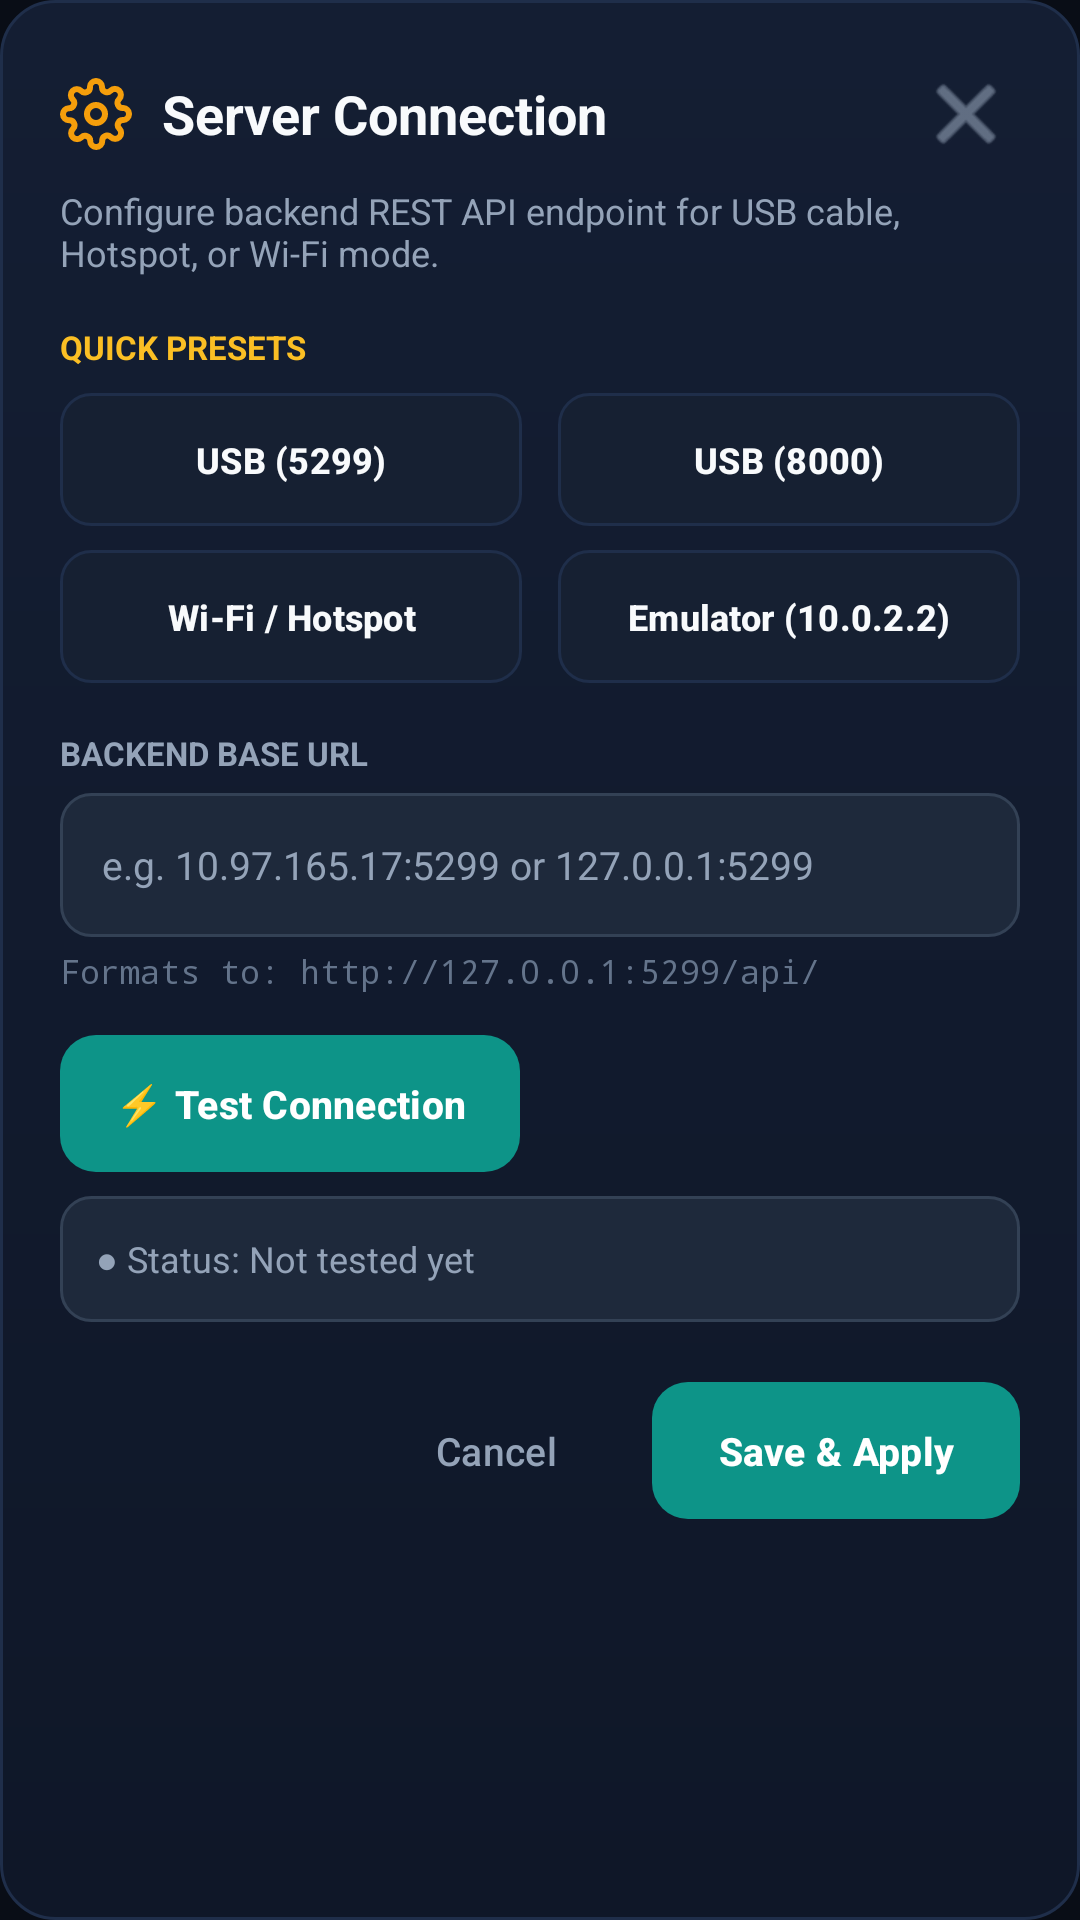

Icons on this 1080×1920 Android screen, each with its box as (x1, y1, x2, y2):
Close: (936, 84, 996, 144)
Settings: (60, 78, 132, 150)
